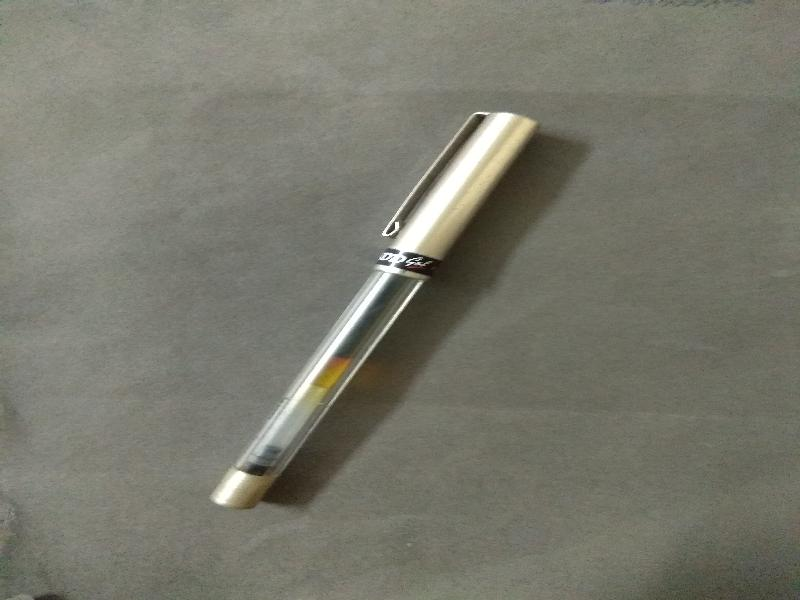pen: (196, 98, 545, 515)
